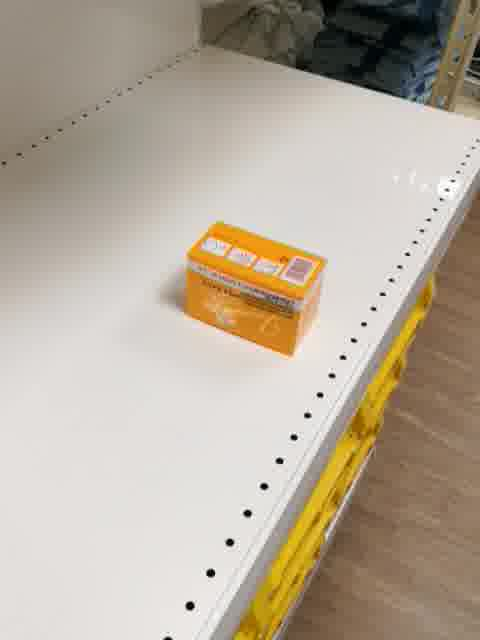jasminetea: (180, 220, 329, 358)
